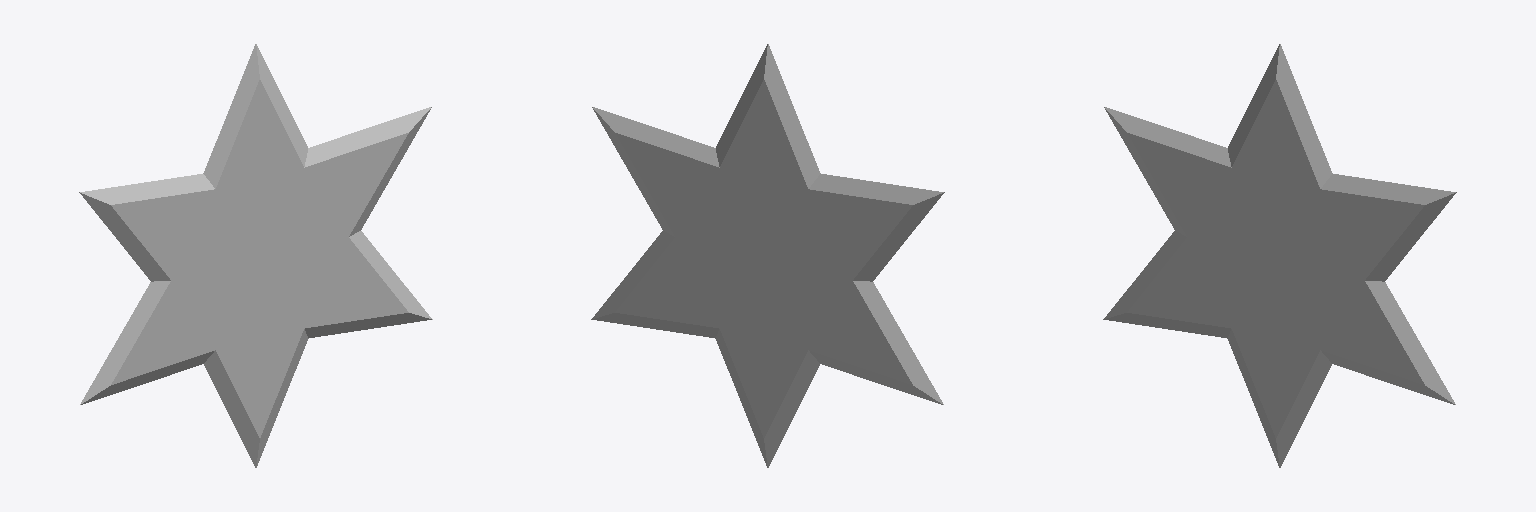
Rendered from Shuriken_14.obj.
3 views of the same model, side by side, from view 1: azimuth 30°, elevation 25°; view 2: azimuth 150°, elevation 25°; view 3: azimuth 330°, elevation 25° (orthographic).
Visible parts, largest first — view 1: Shuriken_14; view 2: Shuriken_14; view 3: Shuriken_14.
Boxes of the visible parts, box(x1,y1,x2,y2) form: Shuriken_14: box(79, 44, 432, 467); Shuriken_14: box(591, 44, 944, 467); Shuriken_14: box(1103, 44, 1456, 467).
Size of the model in its own units: 1.73 by 2 by 0.0676.